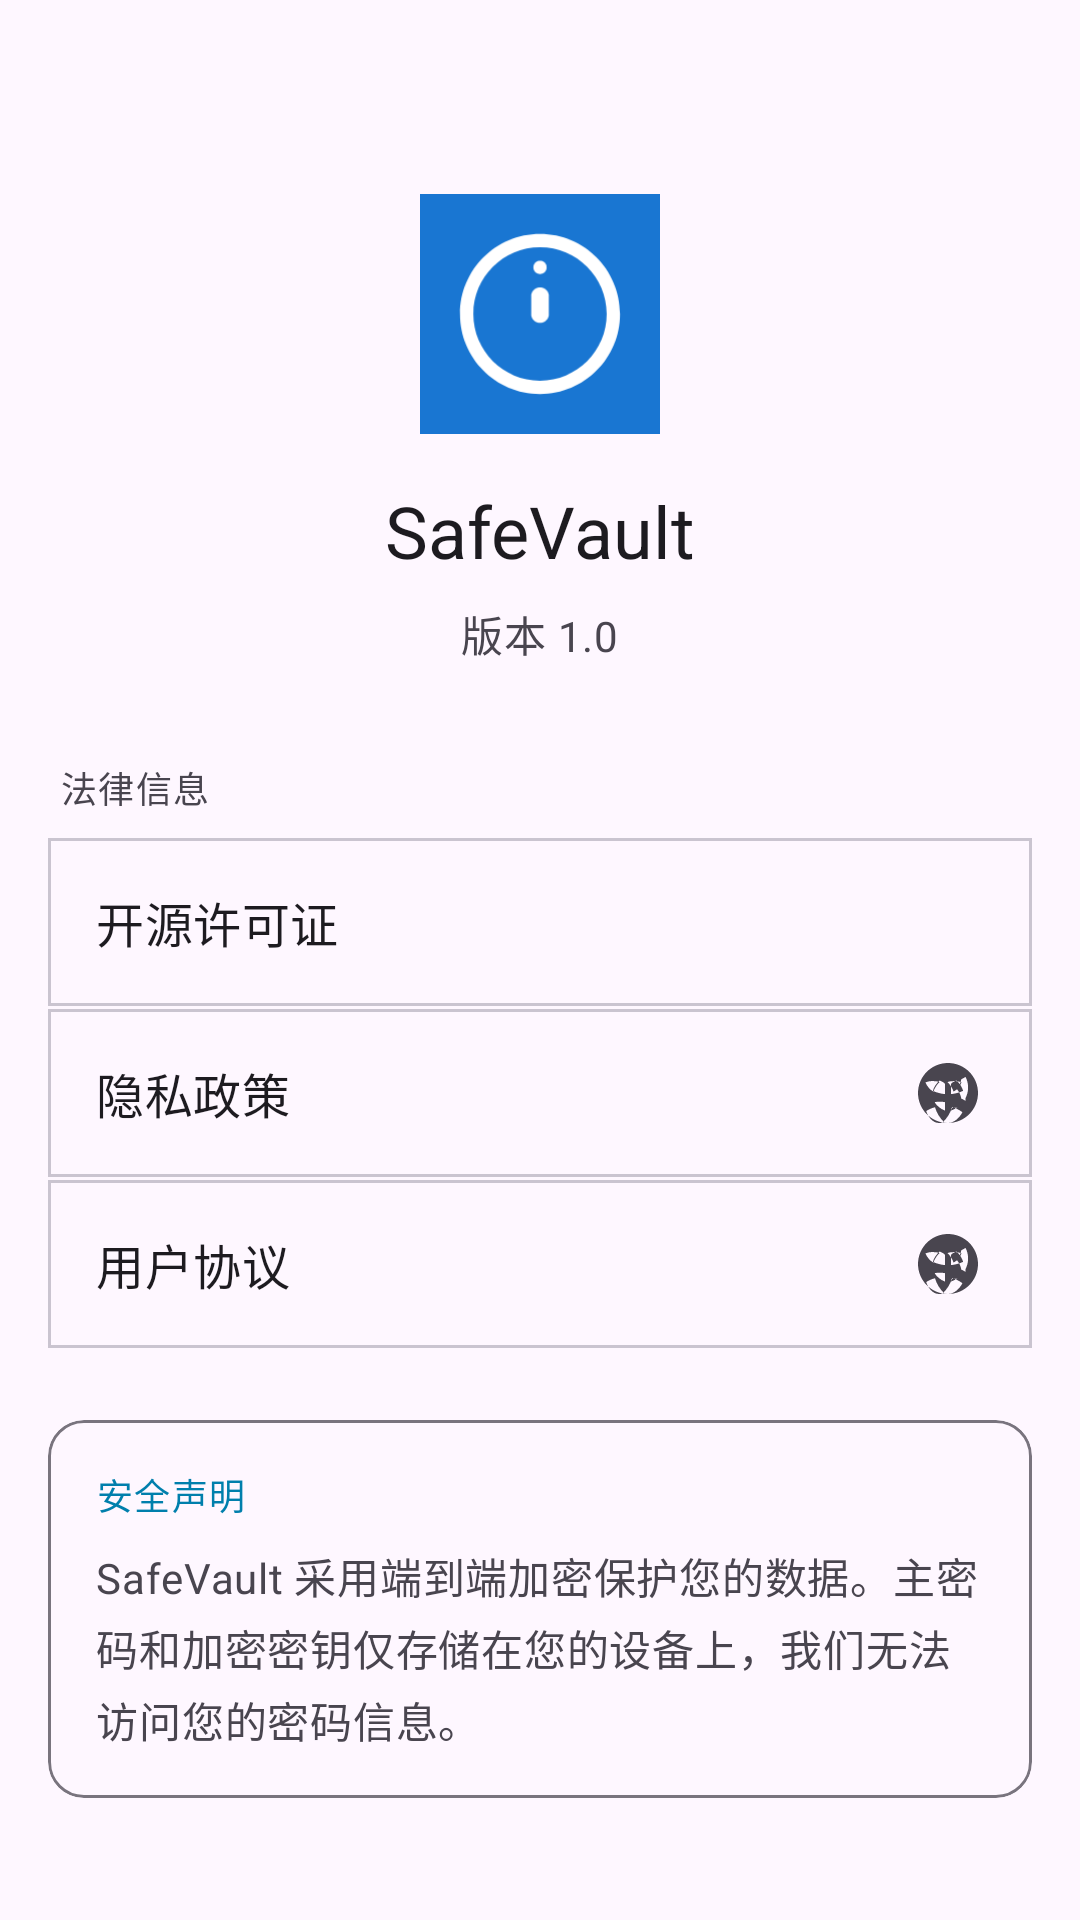

Locate icon controls on the screen. Image size 1080×1920, boxes as (x1, y1, x2, y2).
public: (918, 1063, 978, 1123), (918, 1234, 978, 1294)
